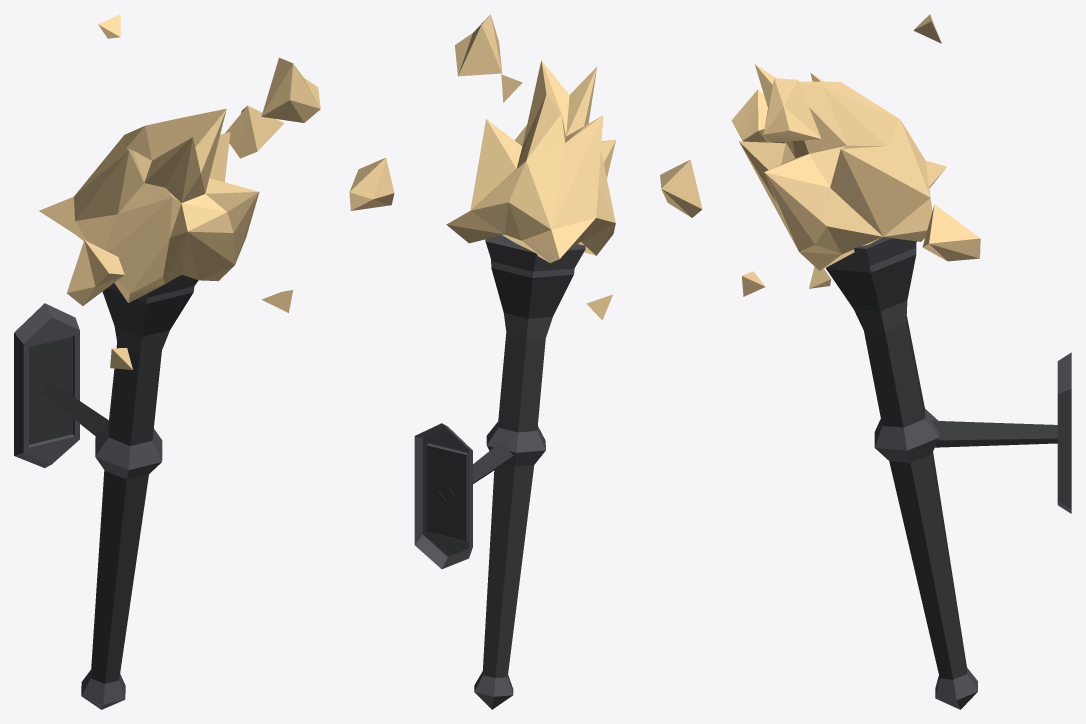
Rendered from Torch.fbx.
3 renders of one model, left to right at view 1: azimuth 30°, elevation 25°; view 2: azimuth 150°, elevation 25°; view 3: azimuth 270°, elevation 25°, orthographic. The views are drawn at different scales.
Visible parts, largest first — view 1: Group55997; view 2: Group55997; view 3: Group55997.
Boxes of the visible parts, x1=… form: Group55997: x1=14, y1=14, x2=320, y2=709; Group55997: x1=349, y1=14, x2=702, y2=709; Group55997: x1=731, y1=14, x2=1071, y2=709.
Size of the model in its own units: 75.43 by 168 by 74.89.
